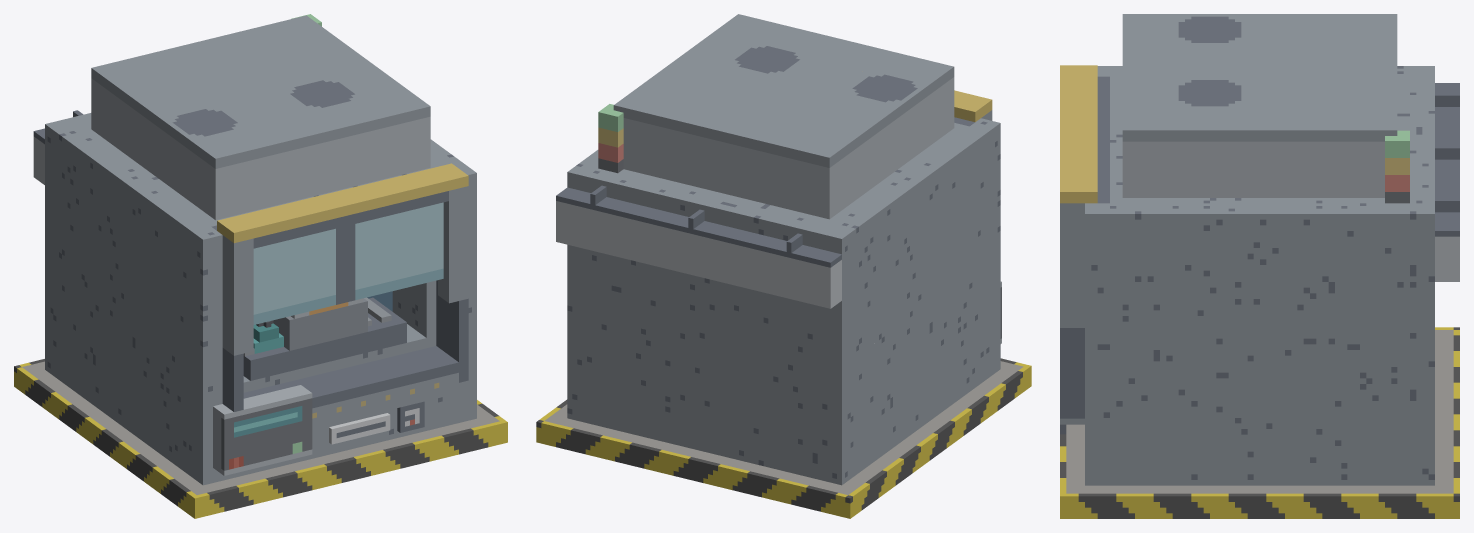
Rendered from assembler.glb.
3 renders of one model, left to right at view 1: azimuth 30°, elevation 25°; view 2: azimuth 150°, elevation 25°; view 3: azimuth 270°, elevation 25°, orthographic. The views are drawn at different scales.
Visible parts, largest first — view 1: assembler; view 2: assembler; view 3: assembler.
Boxes of the visible parts, box(x1,y1,x2,y2) form: assembler: box(14, 14, 507, 518); assembler: box(536, 14, 1031, 518); assembler: box(1060, 14, 1459, 518).
Size of the model in its own units: 2 by 2 by 2.
